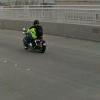Motorcycle: (19, 24, 52, 55)
